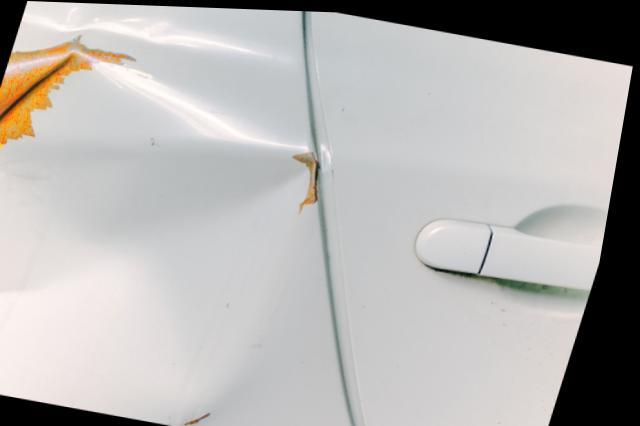dent: (0, 1, 318, 426)
